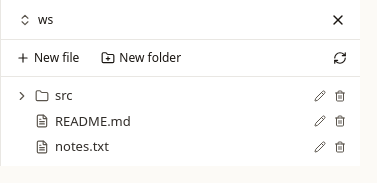
WorkspacePanel — browse → preview flow › opens a file in preview mode and returns to the list via Back
Expected: the button with test id "tree-row-README.md" is shown, [11,108,310,134]
Click the button with test id "tree-row-notes.txt". click: (82, 146)
box: [11,134,310,160]
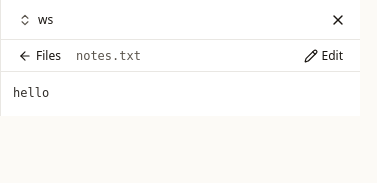
Now the text with test id "preview-code" reads "hello", box [13,86,49,100]
Click the button with aria-label "Back to files". click: (39, 56)
box: [9,42,70,70]
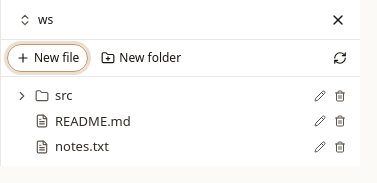
Now the button with test id "tree-row-README.md" is shown, box [11,108,310,134]
